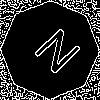N: (25, 25, 83, 83)
